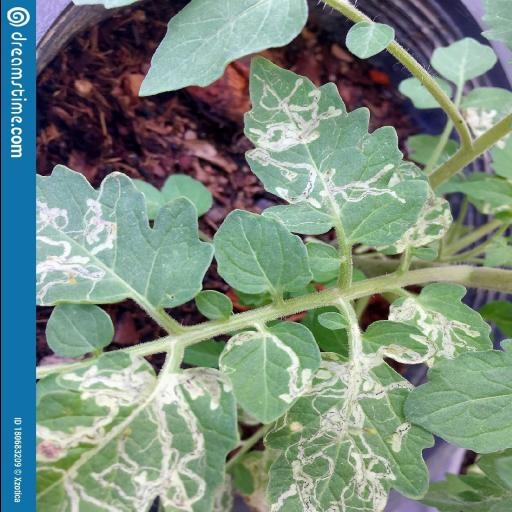disease_tomato: (241, 54, 425, 247), (262, 320, 442, 512), (36, 350, 242, 512), (36, 162, 218, 311), (216, 322, 322, 426), (385, 282, 494, 370)
